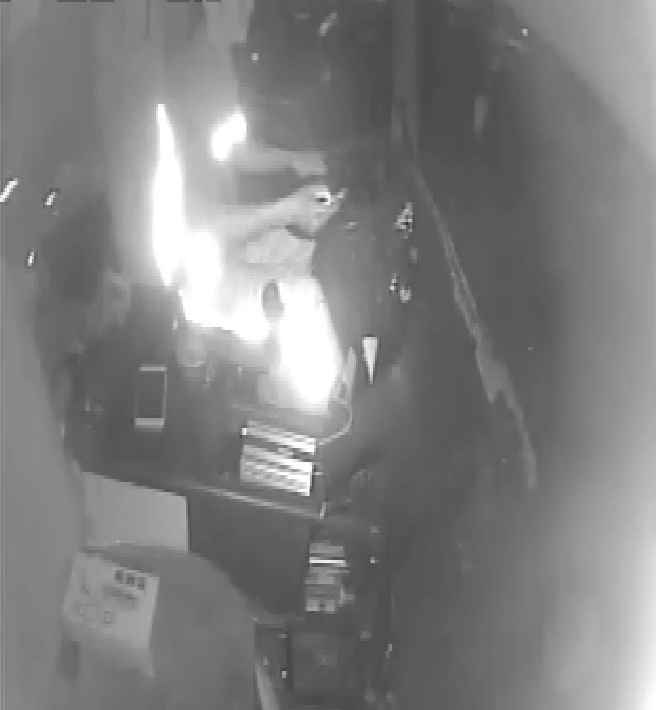cellphone: (294, 185, 355, 237)
